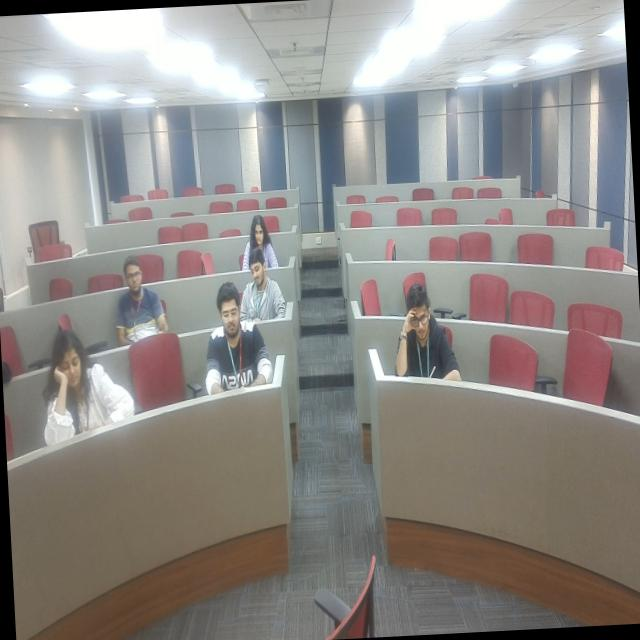non-cheating: (40, 317, 134, 466), (193, 267, 271, 443), (388, 264, 464, 402), (104, 229, 170, 346), (244, 242, 287, 322), (237, 188, 283, 252)
